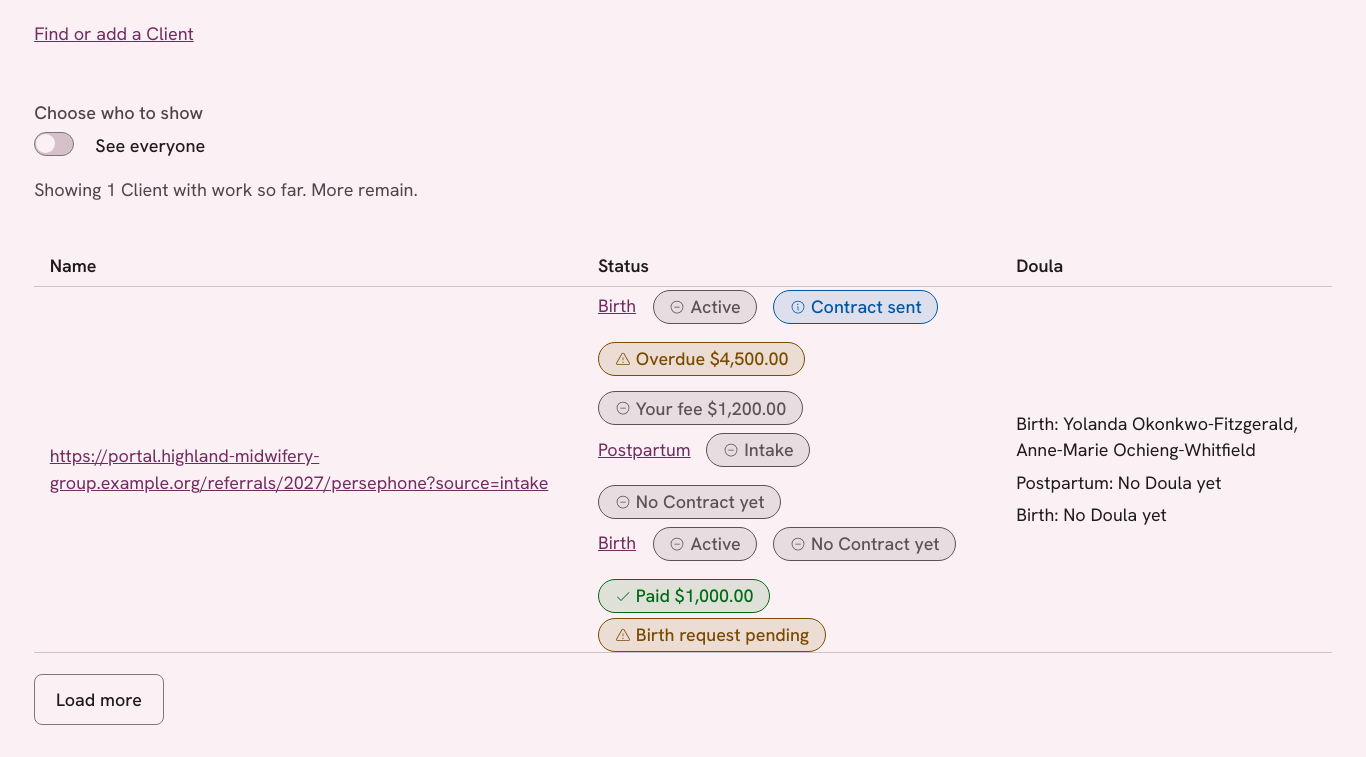
a "Load more" already in flight when the filter changes › surfaces a "Load more" failure only while the filter has not moved
(page scrolled)
Click the button "Load more". click: (99, 700)
box: [34,674,164,725]
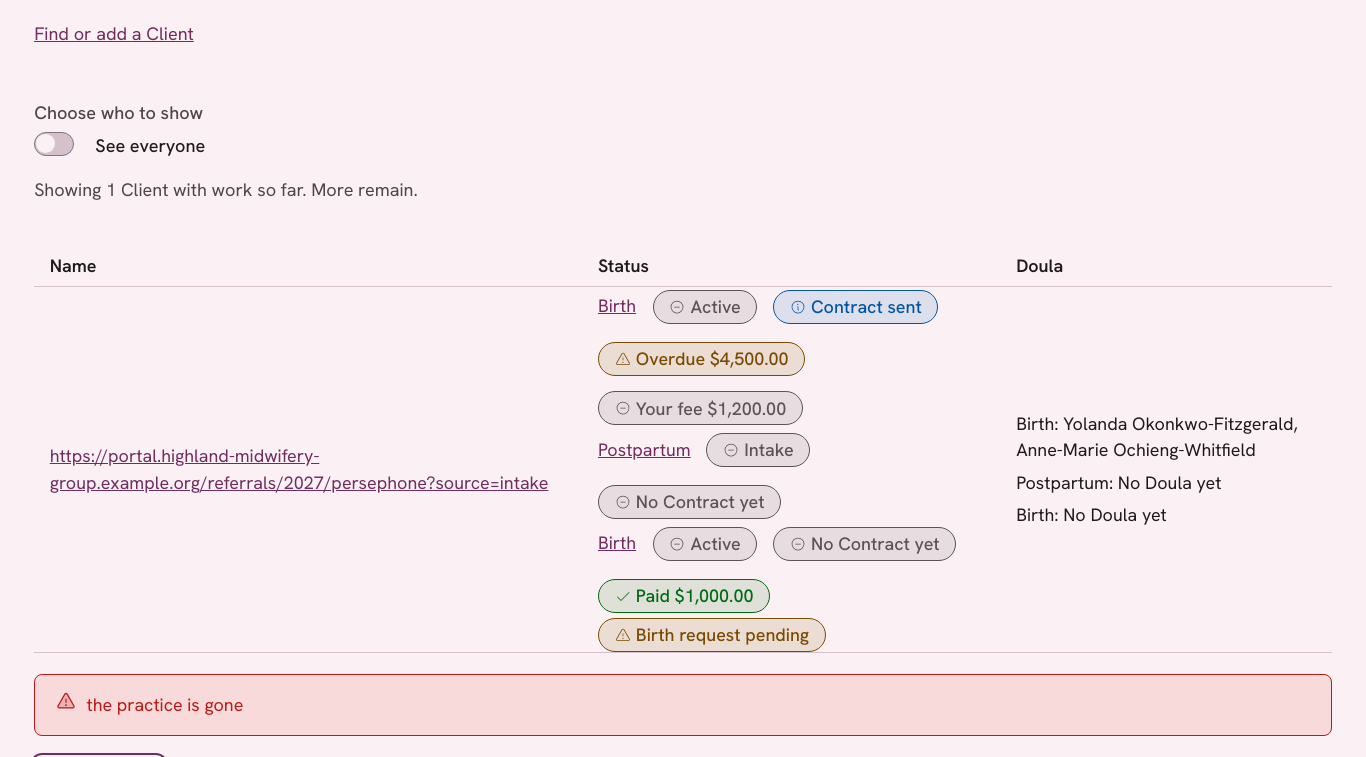
Result: the text "the practice is gone" is shown at [34,674,1332,736]
